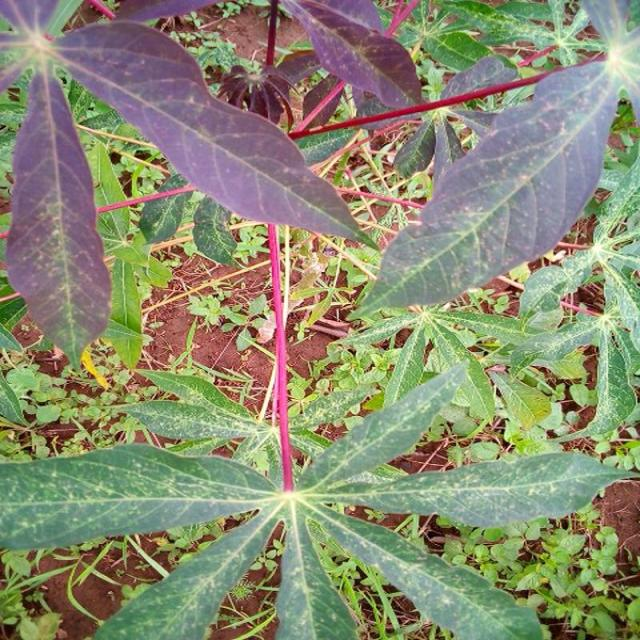cassava leaf: (49, 17, 382, 252), (348, 52, 622, 321), (5, 65, 114, 369), (1, 440, 279, 550)
